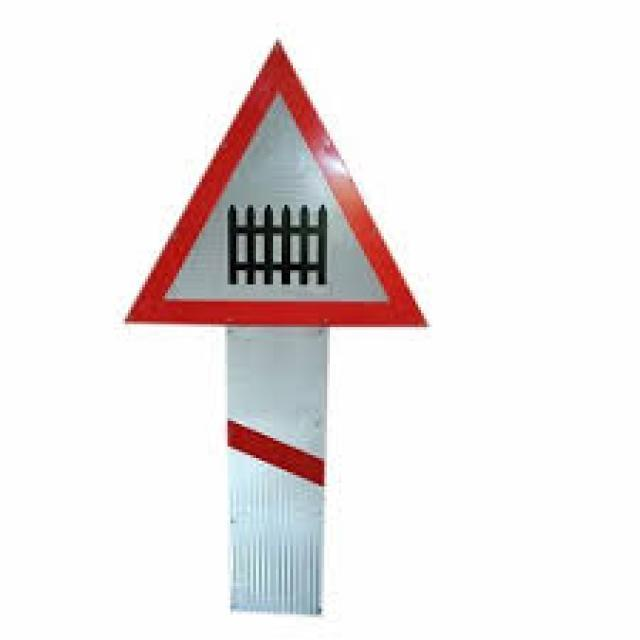guarded level crossing: (116, 40, 431, 330)
